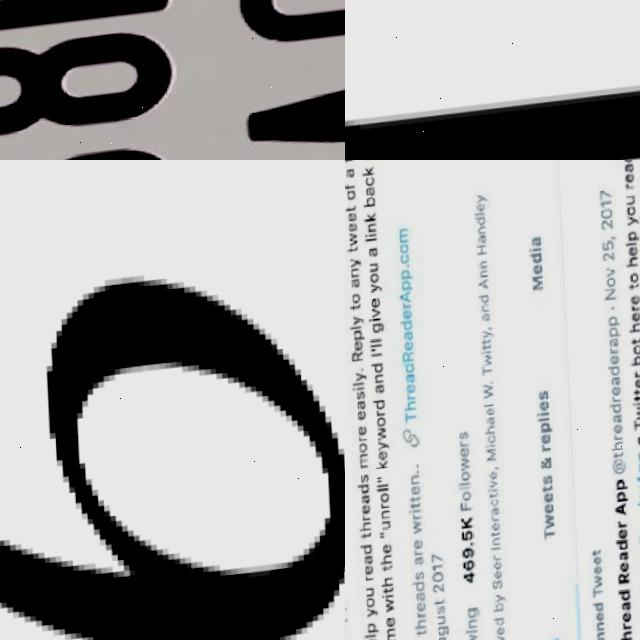0: (428, 579, 439, 590), (599, 220, 610, 231)
1: (427, 572, 438, 579), (598, 212, 609, 219)
2: (600, 263, 612, 274), (599, 231, 610, 242), (428, 590, 439, 600)
4: (459, 580, 470, 592)
5: (457, 538, 468, 549), (600, 252, 612, 262)
6: (0, 185, 345, 640), (458, 567, 469, 579)
7: (426, 560, 439, 571), (597, 201, 610, 212)
8: (0, 29, 169, 150)
9: (458, 556, 469, 567)
A: (241, 61, 345, 160)
C: (231, 0, 345, 58)
L: (345, 0, 640, 160), (0, 0, 168, 45)
